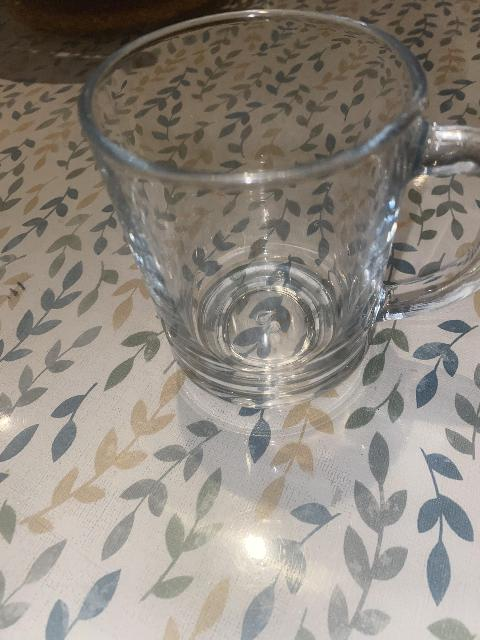Cam: (70, 8, 480, 402)
